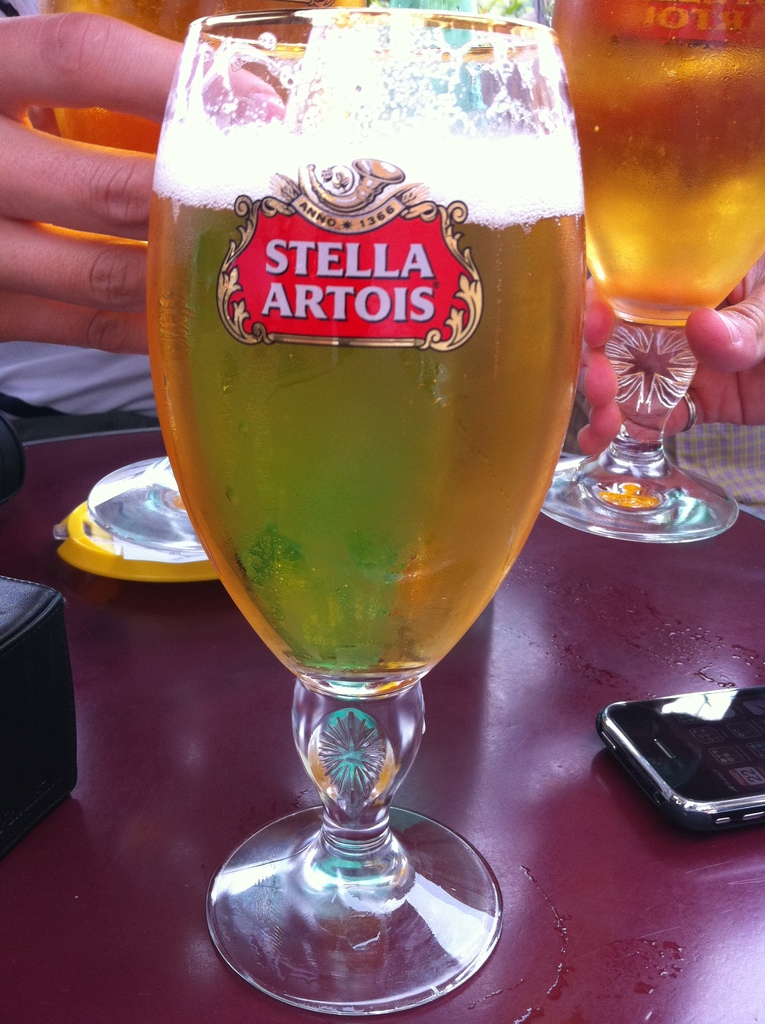Beer: (147, 106, 584, 672)
